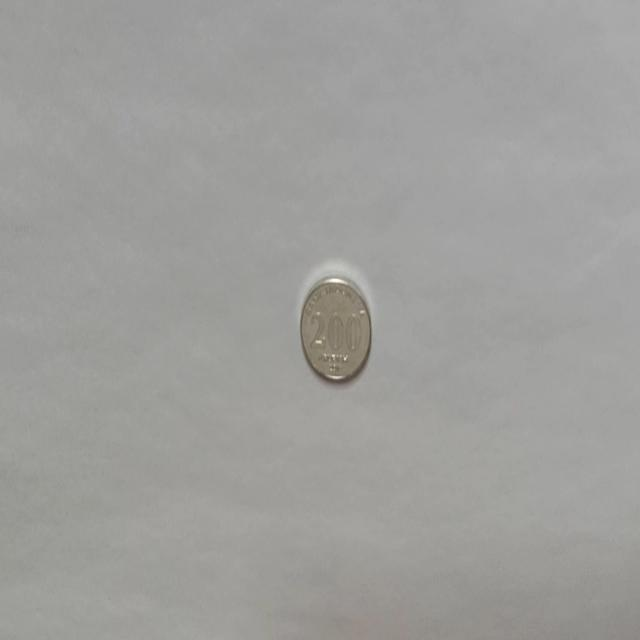dua ratus rupiah: (298, 273, 372, 383)
